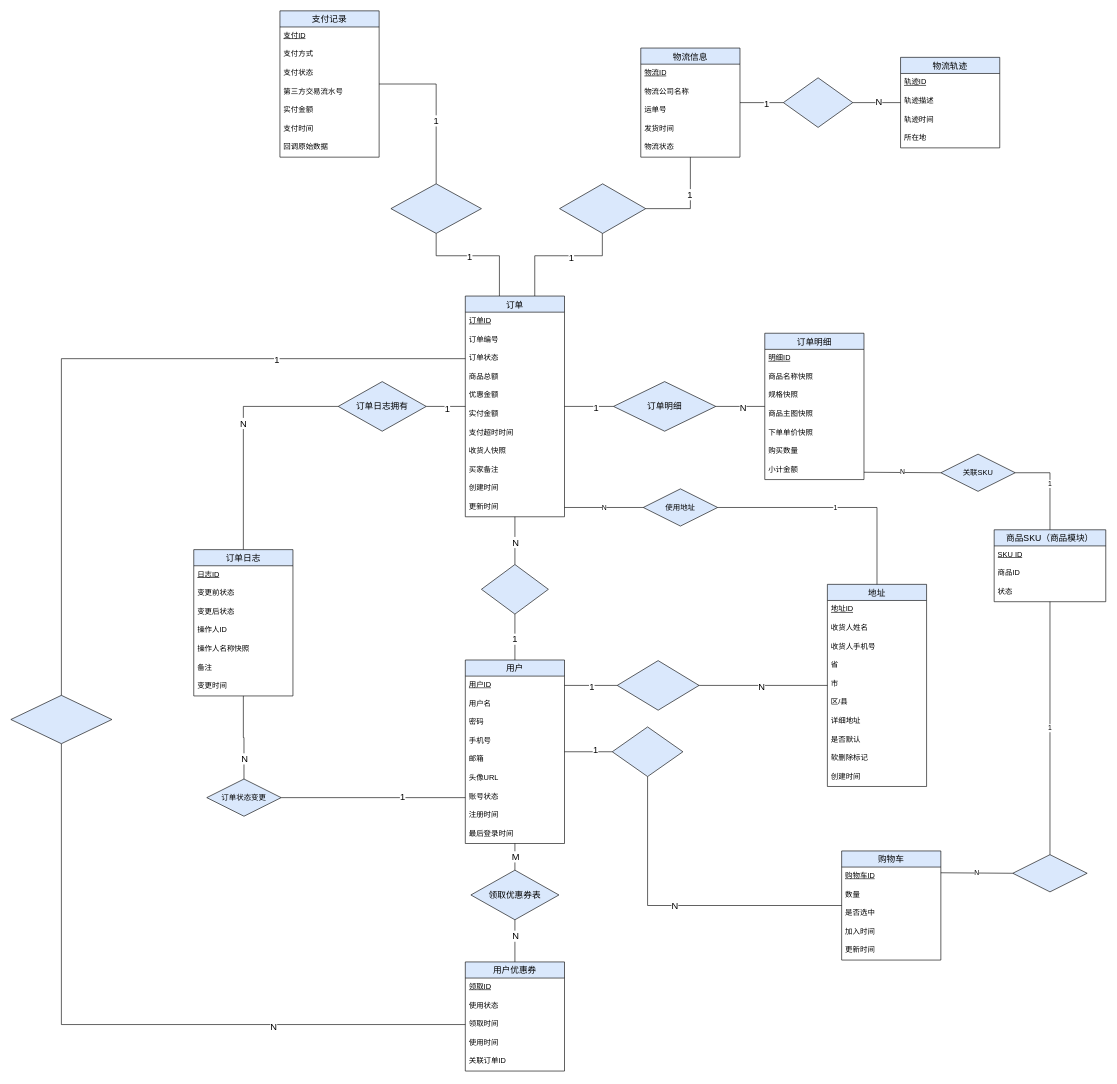
The diagram is 1117 pixels wide and 1084 high, and some of its shapes have lost their labels. The centre of each missing label's shape, as x and y in pixels:
用户地址: the point at 658,685
用户订单: the point at 514,589
用户购物车: the point at 647,751
订单优惠券: the point at 61,719
订单支付: the point at 435,208
订单物流: the point at 602,208
轨迹: the point at 818,102
选择SKU: the point at 1049,873
